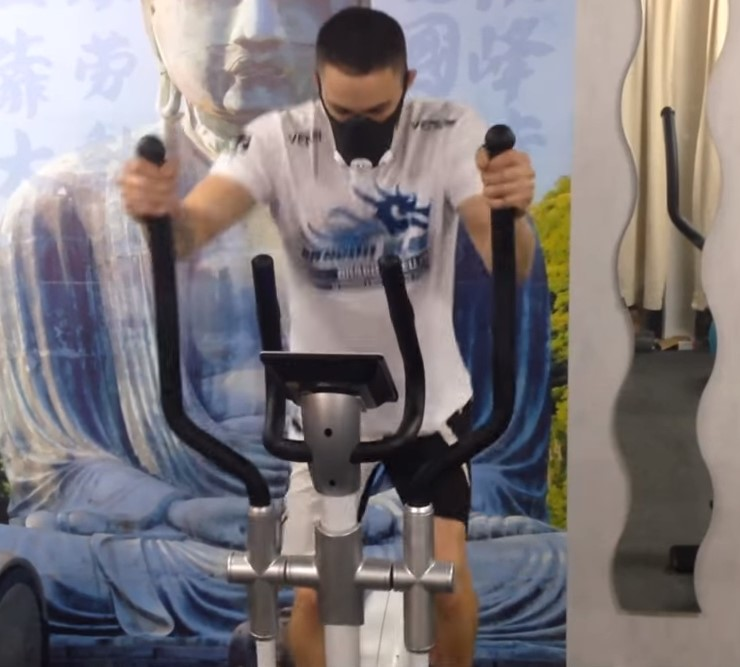face_with_mask: (318, 8, 416, 161)
